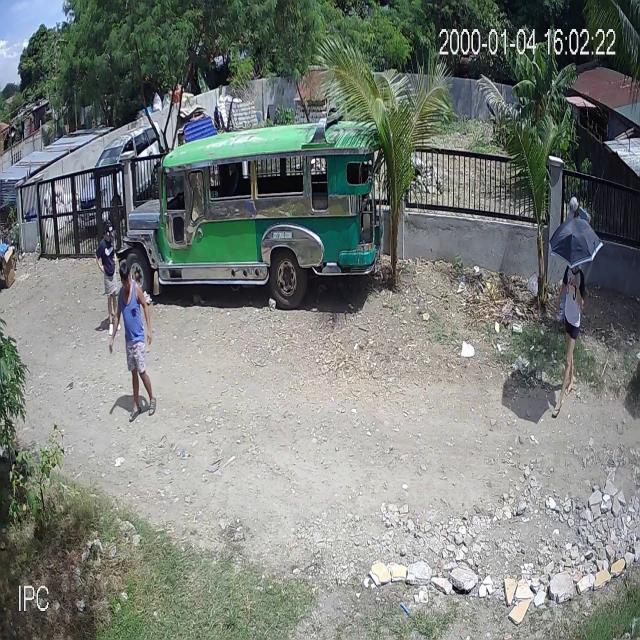standing: (96, 221, 123, 339), (565, 191, 587, 223)
walking: (110, 258, 157, 423), (560, 258, 591, 412)
